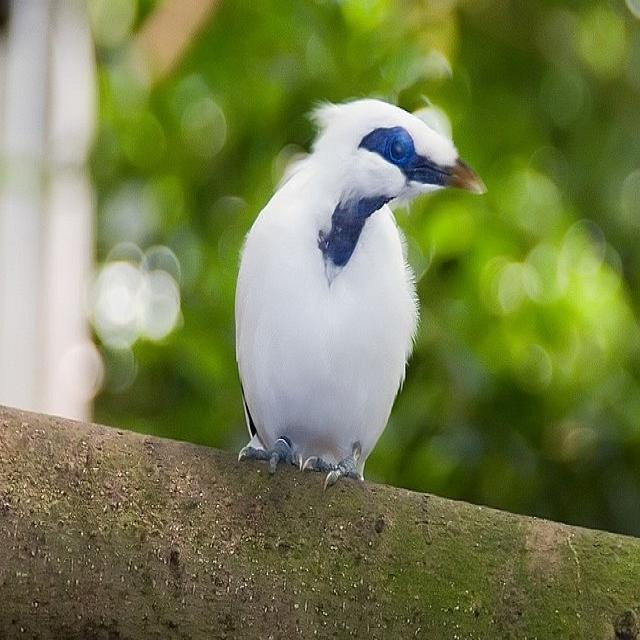Jalak Bali: (208, 51, 501, 553)
